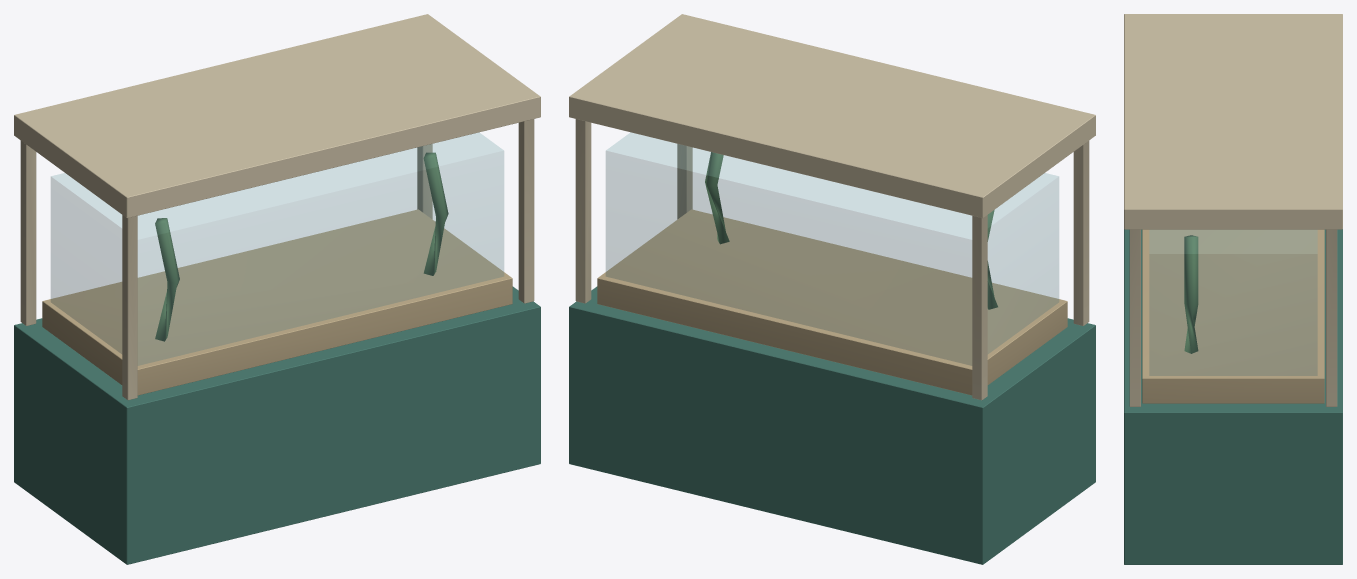
File: museum_tank_low.glb
3 views of the same model, side by side, from view 1: azimuth 30°, elevation 25°; view 2: azimuth 150°, elevation 25°; view 3: azimuth 270°, elevation 25° (orthographic). The views are drawn at different scales.
Size of the model in its own units: 1.65 by 1.4 by 0.78.
